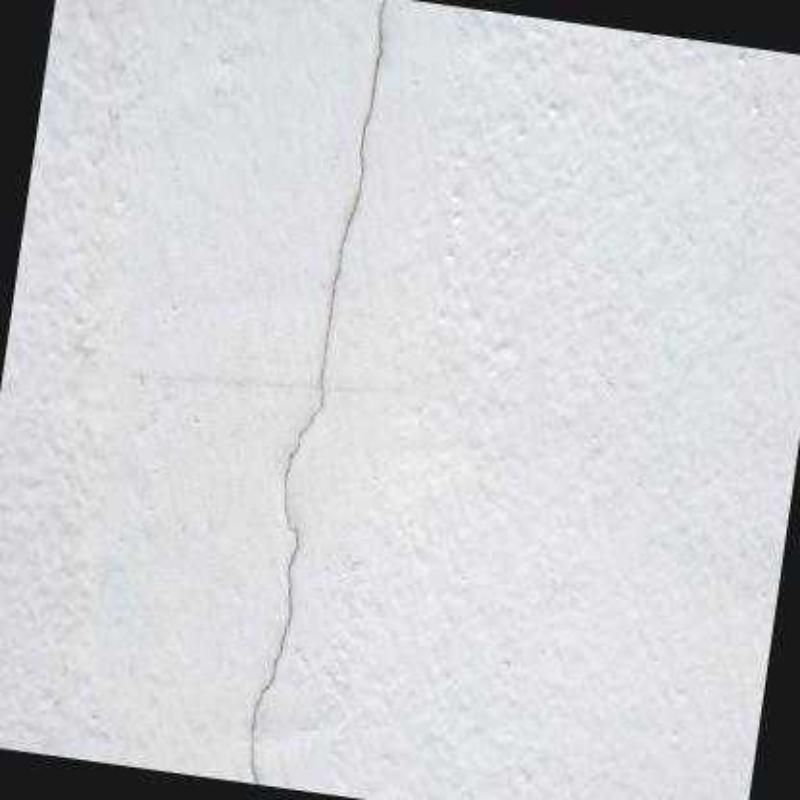crack: (249, 1, 388, 785)
